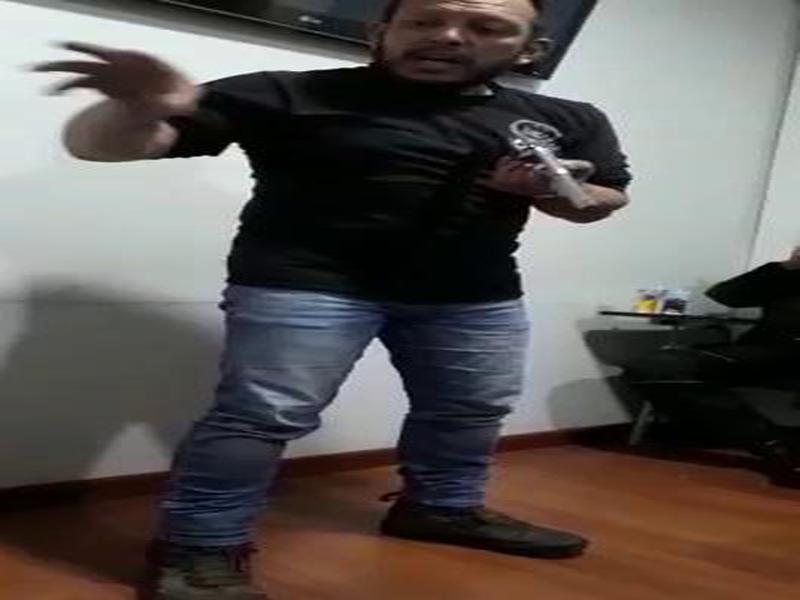Revolver: (464, 90, 609, 242)
